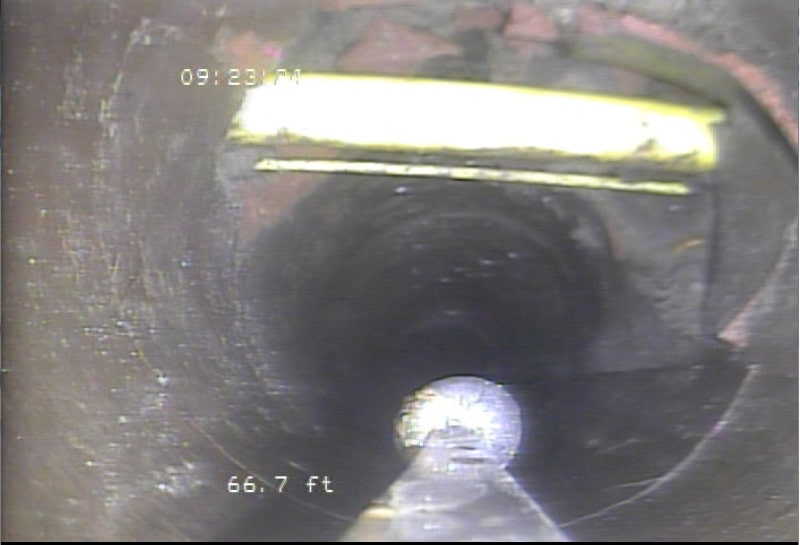cb: (206, 57, 738, 183), (228, 140, 746, 215)
